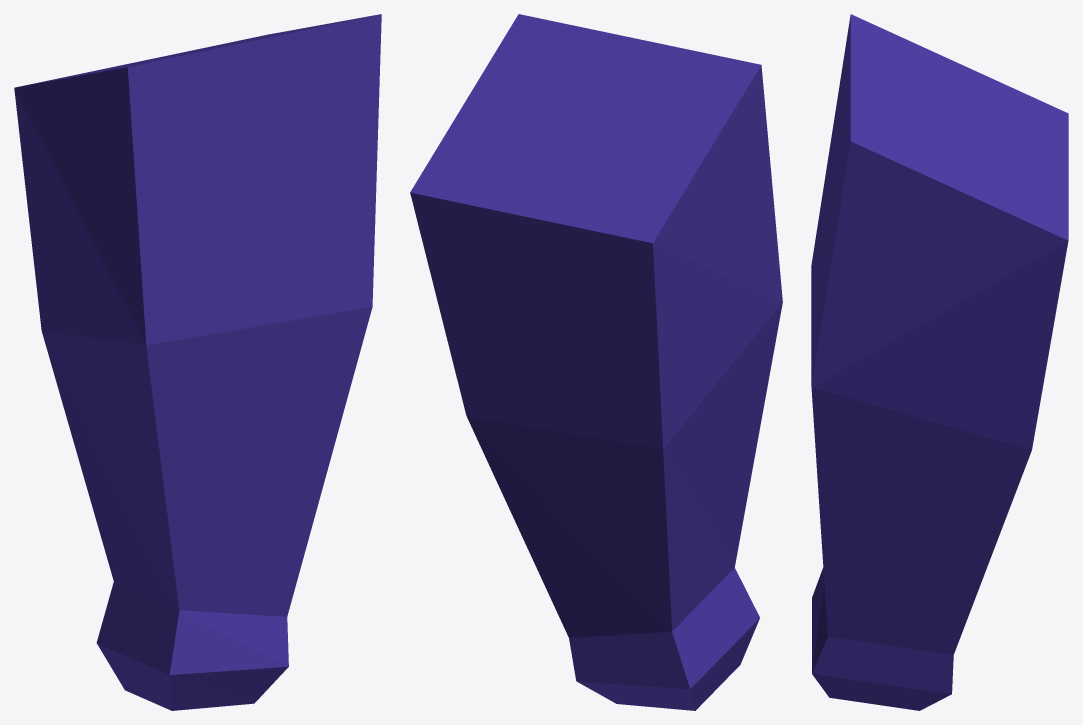
The model's file is right_upper_leg.dae.
3 renders of one model, left to right at view 1: azimuth 30°, elevation 25°; view 2: azimuth 150°, elevation 25°; view 3: azimuth 270°, elevation 25°, orthographic. The views are drawn at different scales.
Parts seen in each view (by area): view 1: right_upper_leg; view 2: right_upper_leg; view 3: right_upper_leg.
Part boxes in pixels (left/top/right/bottom): right_upper_leg: left=14, top=14, right=381, bottom=710; right_upper_leg: left=410, top=14, right=782, bottom=710; right_upper_leg: left=811, top=14, right=1068, bottom=710.
Size of the model in its own units: 0.1843 by 0.1671 by 0.4612.
